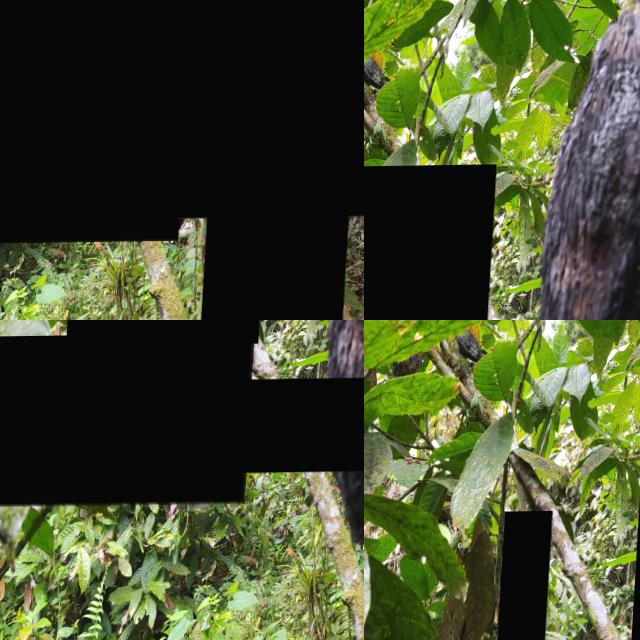Fitoftora: (208, 150, 358, 320), (364, 165, 499, 320), (501, 511, 556, 640)
Monilia: (0, 334, 258, 507)
Sana: (0, 0, 208, 245), (151, 0, 364, 220), (125, 458, 279, 537), (240, 378, 364, 473), (70, 320, 265, 346)
